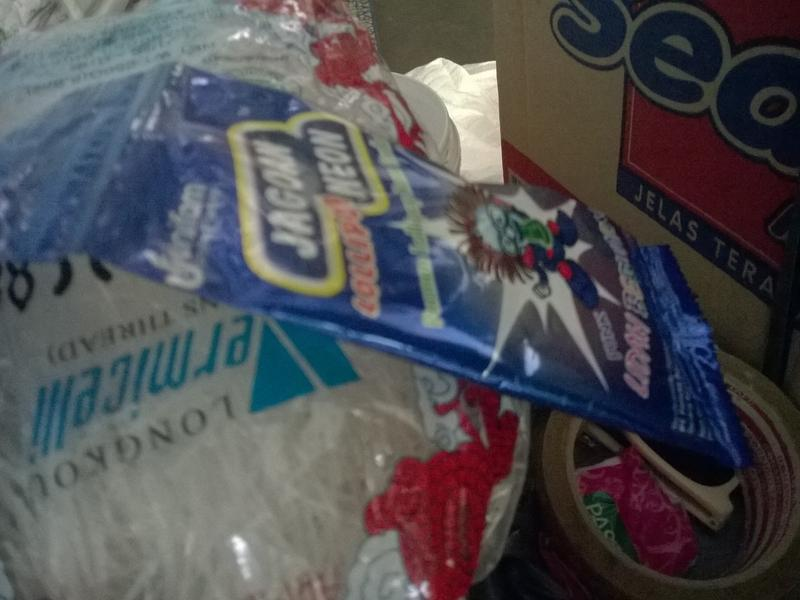jagoan neon: (49, 21, 753, 468)
